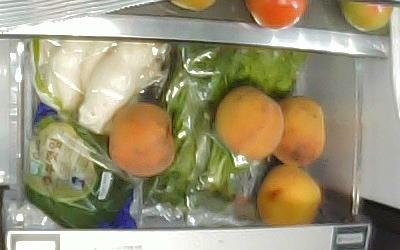peach: (215, 85, 285, 162), (108, 103, 175, 177), (270, 96, 327, 165), (257, 163, 321, 222)
